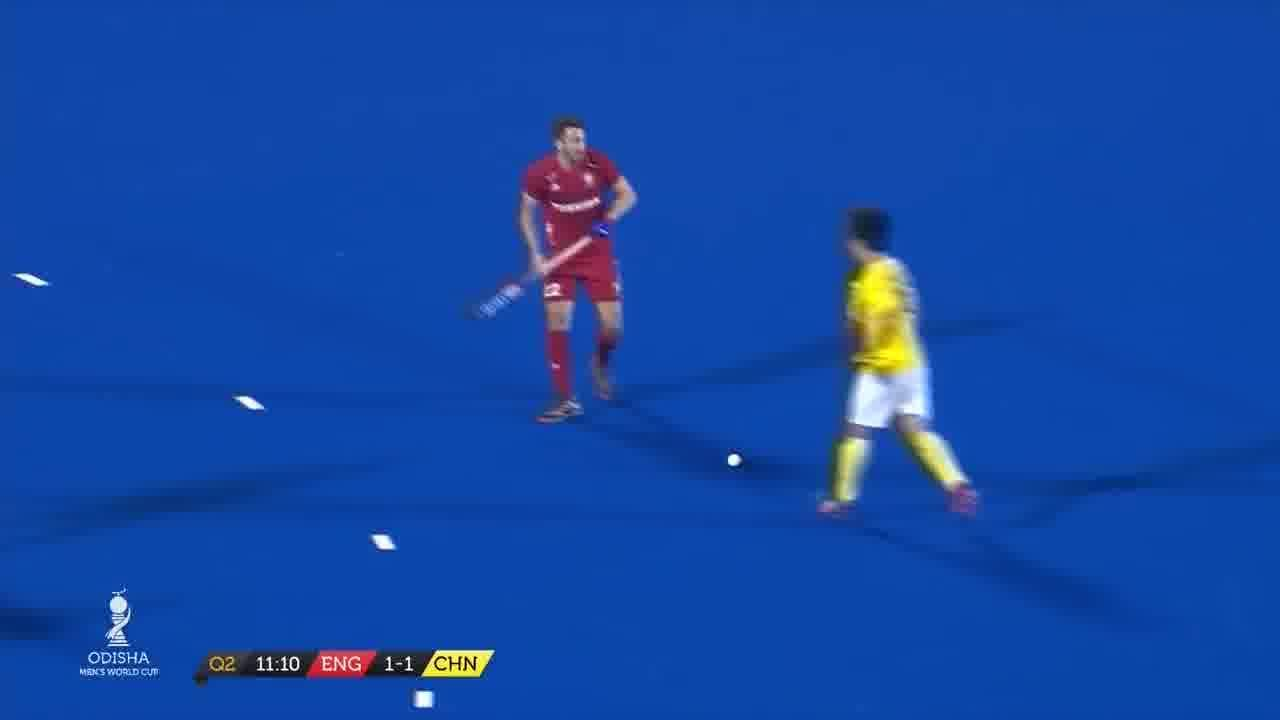ball: (716, 441, 756, 479)
